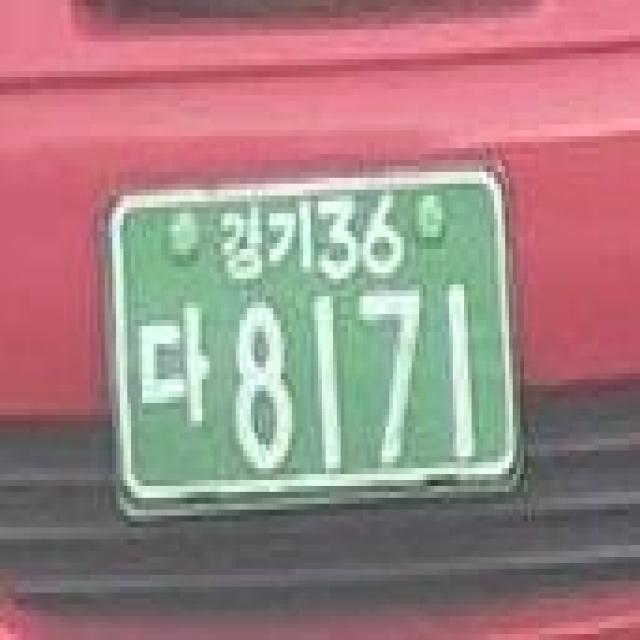illegal_plate: (84, 150, 541, 539)
